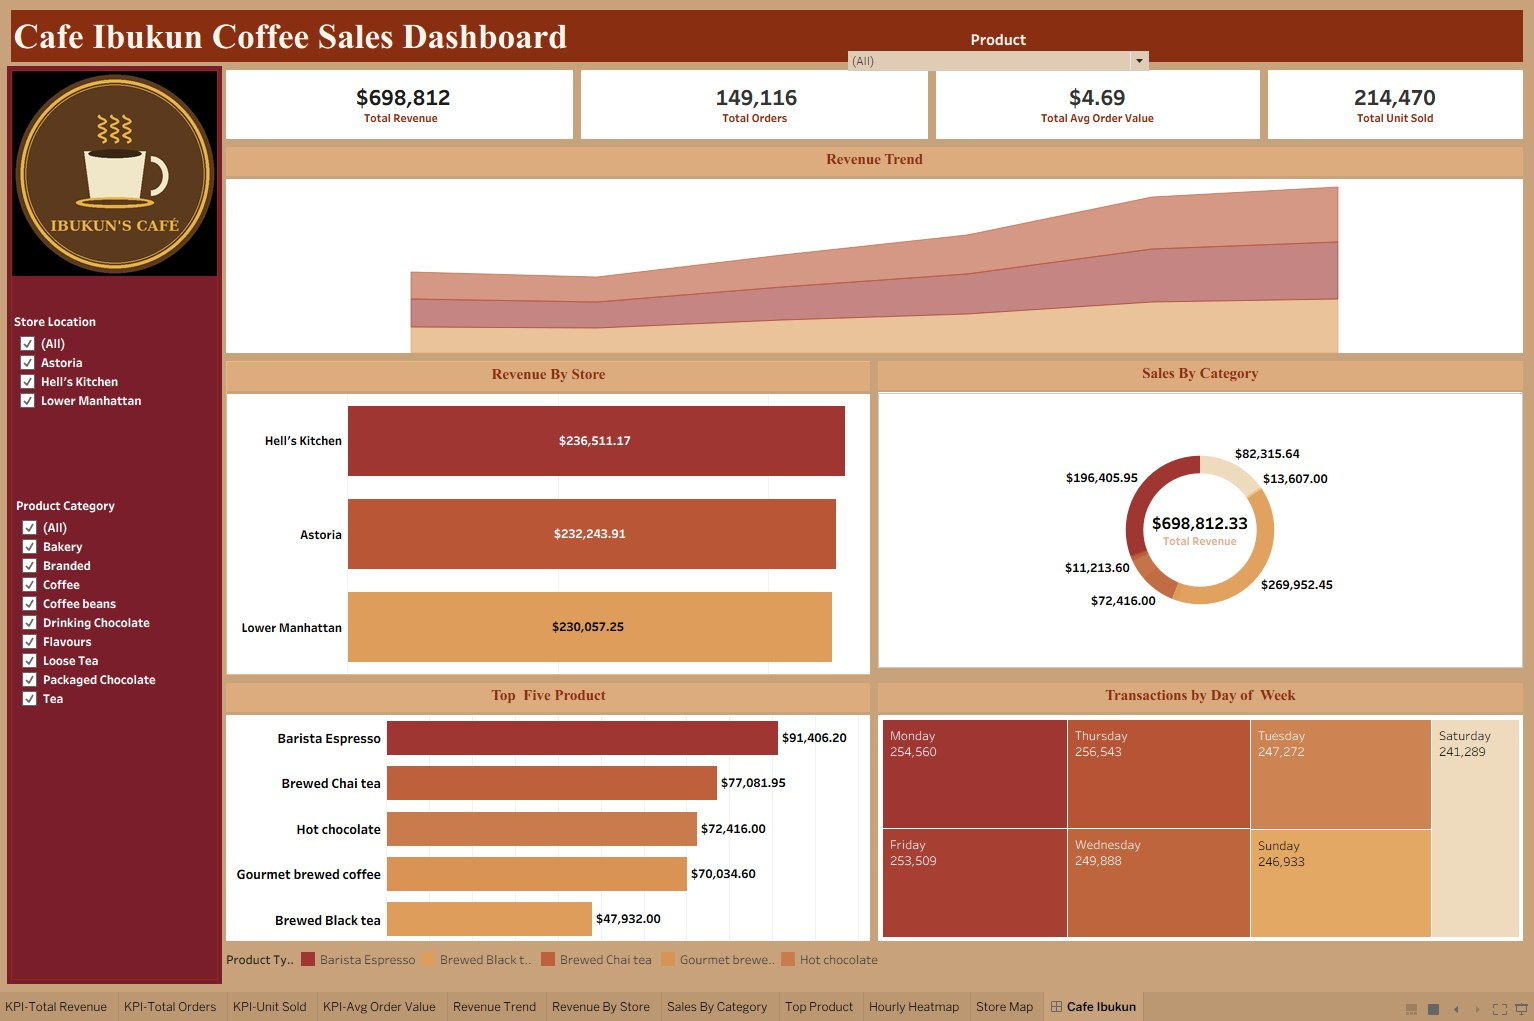

Layout of this report page (visuals, bound fields, positions):
{"tool":"tableau","page":{"name":"Cafe Ibukun","canvas":[1000,1000],"units":"permille","ordinal":0},"visuals":[{"type":"title","box":[6,9.5,987.9,71.4]},{"type":"filter","title":"Top Product","param":"[federated.0pzxxmk0c1jn391dgm2s208w6mww].[none:product_type:nk]","box":[550.9,30.9,200,42.9]},{"type":"image","param":"Image/Ibukun's Cafe.jpeg","box":[6,80.9,139.6,909.5]},{"type":"worksheet","title":"KPI-Total Revenue","mark":"Automatic","box":[145.6,80.9,230.9,76]},{"type":"worksheet","title":"KPI-Total Orders","mark":"Automatic","box":[376.5,80.9,231,76]},{"type":"worksheet","title":"KPI-Avg Order Value","mark":"Automatic","box":[607.4,80.9,215.8,76]},{"type":"worksheet","title":"KPI-Unit Sold","mark":"Automatic","box":[823.3,80.9,170.7,76]},{"type":"worksheet","title":"Revenue Trend","mark":"Area","rows":["Revenue"],"cols":["transaction_date"],"box":[145.6,157,848.4,212]},{"type":"filter","title":"Sales By Category","param":"[federated.0pzxxmk0c1jn391dgm2s208w6mww].[none:store_location:nk]","box":[9.8,316.7,126.8,128.6]},{"type":"worksheet","title":"Revenue By Store","mark":"Automatic","rows":["store_location"],"cols":["Revenue"],"box":[145.6,368.9,424.1,319]},{"type":"worksheet","title":"Sales By Category","mark":"Pie","rows":["Calculation_1142990623494151","Calculation_1142990623514633"],"box":[569.7,368.9,424.2,319]},{"type":"filter","title":"Sales By Category","param":"[federated.0pzxxmk0c1jn391dgm2s208w6mww].[none:product_category:nk]","box":[11.3,502.4,126.8,298.8]},{"type":"worksheet","title":"Top Product","mark":"Automatic","rows":["product_type"],"cols":["Revenue"],"box":[145.6,687.9,424.1,264.3]},{"type":"worksheet","title":"Hourly Heatmap","mark":"Automatic","box":[569.7,687.9,424.2,264.3]},{"type":"legend","title":"Top Product","param":"[federated.0pzxxmk0c1jn391dgm2s208w6mww].[none:product_type:nk]","box":[145.6,952.3,848.4,38.2]}]}

Visuals, with their boxes on the dashboard's canvas, which has no fixed pixel size, in thousandths of its width and height (x1, y1, x2, y2). These are canvas units, not pixel positions in the 1534x1021 screenshot, which may show the page scaled, cropped or inside an application window:
title: bbox=[6, 10, 994, 81]
"Top Product" filter: bbox=[551, 31, 751, 74]
image: bbox=[6, 81, 146, 990]
"KPI-Total Revenue" worksheet: bbox=[146, 81, 376, 157]
"KPI-Total Orders" worksheet: bbox=[376, 81, 608, 157]
"KPI-Avg Order Value" worksheet: bbox=[607, 81, 823, 157]
"KPI-Unit Sold" worksheet: bbox=[823, 81, 994, 157]
"Revenue Trend" worksheet (Area marks): bbox=[146, 157, 994, 369]
"Sales By Category" filter: bbox=[10, 317, 137, 445]
"Revenue By Store" worksheet: bbox=[146, 369, 570, 688]
"Sales By Category" worksheet (Pie marks): bbox=[570, 369, 994, 688]
"Sales By Category" filter: bbox=[11, 502, 138, 801]
"Top Product" worksheet: bbox=[146, 688, 570, 952]
"Hourly Heatmap" worksheet: bbox=[570, 688, 994, 952]
"Top Product" legend: bbox=[146, 952, 994, 990]
